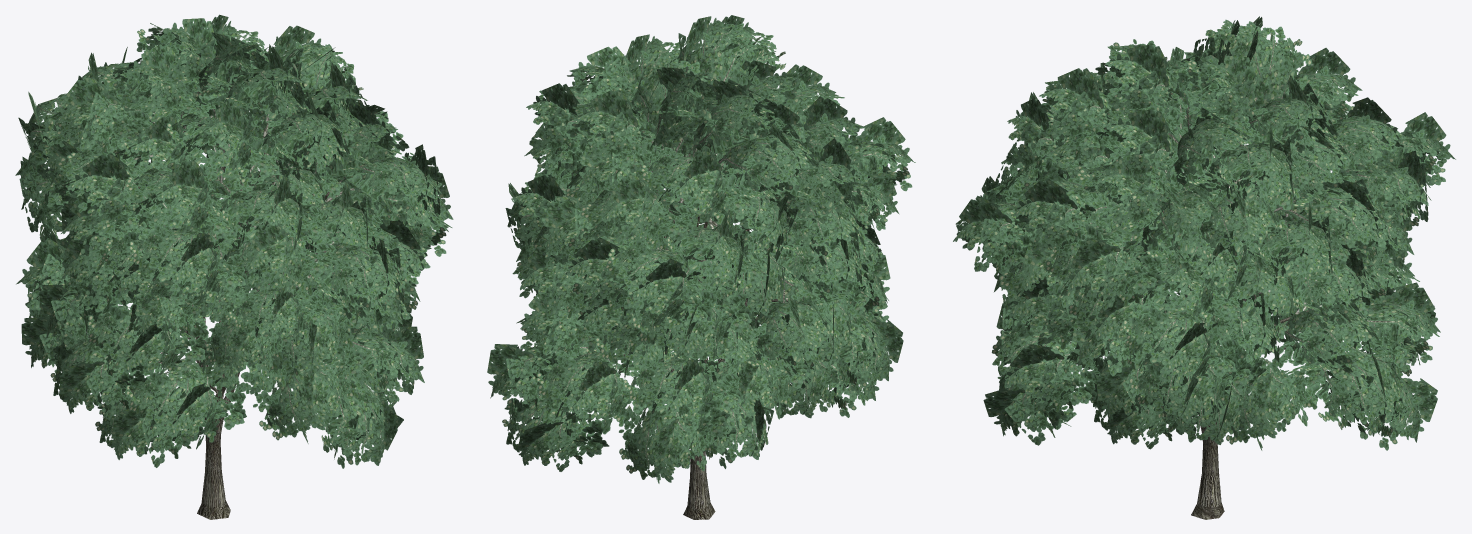
File: 1010_TYGYDCD.glb
The picture shows the model from 3 angles, left to right: view 1: azimuth 30°, elevation 25°; view 2: azimuth 150°, elevation 25°; view 3: azimuth 270°, elevation 25°; orthographic projection. The views are drawn at different scales.
Parts seen in each view (by area): view 1: 1010; view 2: 1010; view 3: 1010.
Boxes of the visible parts, <box> form: 1010: <box>15,14,453,519</box>; 1010: <box>487,15,915,519</box>; 1010: <box>953,16,1455,519</box>.
Bounding box in the file's own units: 23.49 × 27.04 × 25.72.
Materials: 2 (2 with a texture image).
